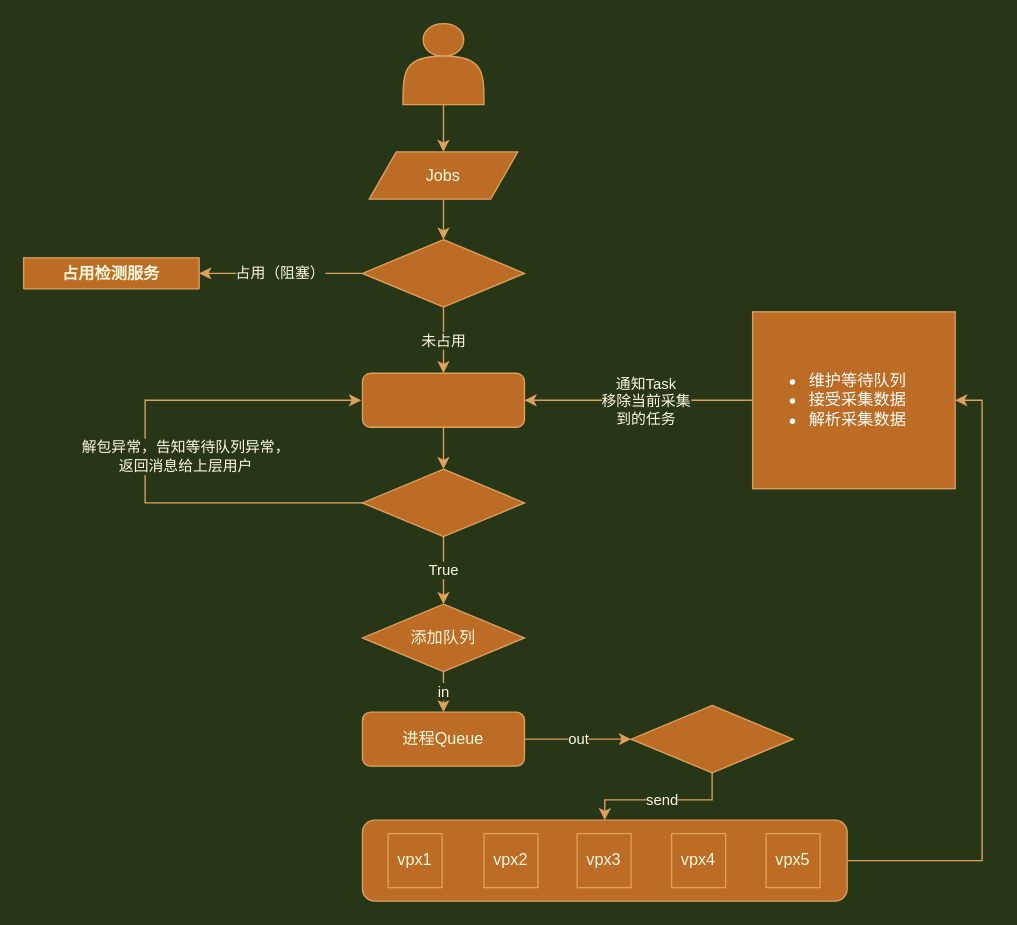
Some shapes in this 1017 by 925 pixel diagram are drawn without their labels. The box of each missing label's shape, as (x1, y1, x2, y2) in pixels:
pyQCat: (402, 22, 484, 105)
Task: (361, 372, 524, 427)
占用检测: (361, 238, 524, 307)
发送: (630, 704, 793, 773)
拆解组包: (361, 468, 524, 537)
